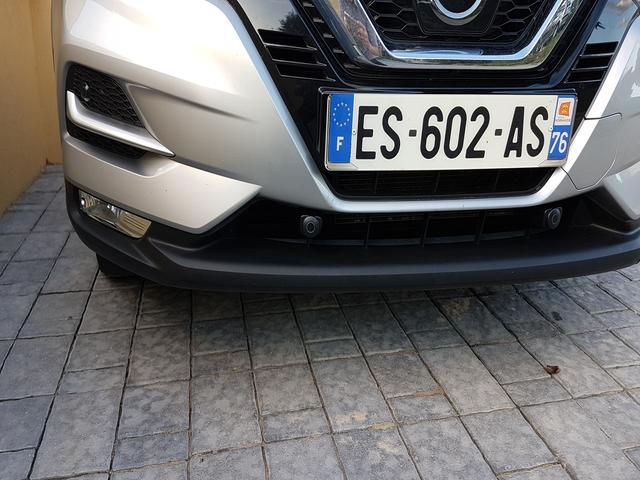Quashquai: (292, 52, 607, 220)
